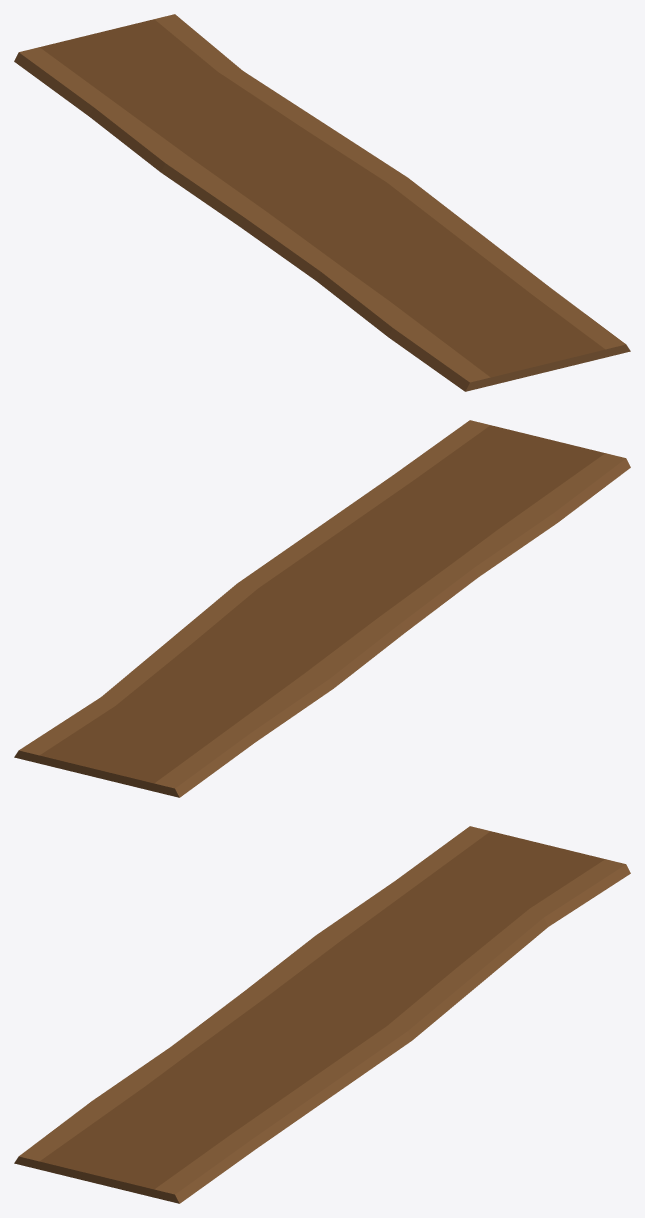
Rendered from Path_02.fbx.
3 renders of one model, top to bottom at view 1: azimuth 30°, elevation 25°; view 2: azimuth 150°, elevation 25°; view 3: azimuth 330°, elevation 25°, orthographic.
Parts seen in each view (by area): view 1: Path_02; view 2: Path_02; view 3: Path_02.
Part boxes in pixels (x1,y1,x2,y2): Path_02: (14, 14, 630, 391); Path_02: (14, 420, 630, 797); Path_02: (14, 826, 630, 1203).
Size of the model in its own units: 113 by 5 by 500.
